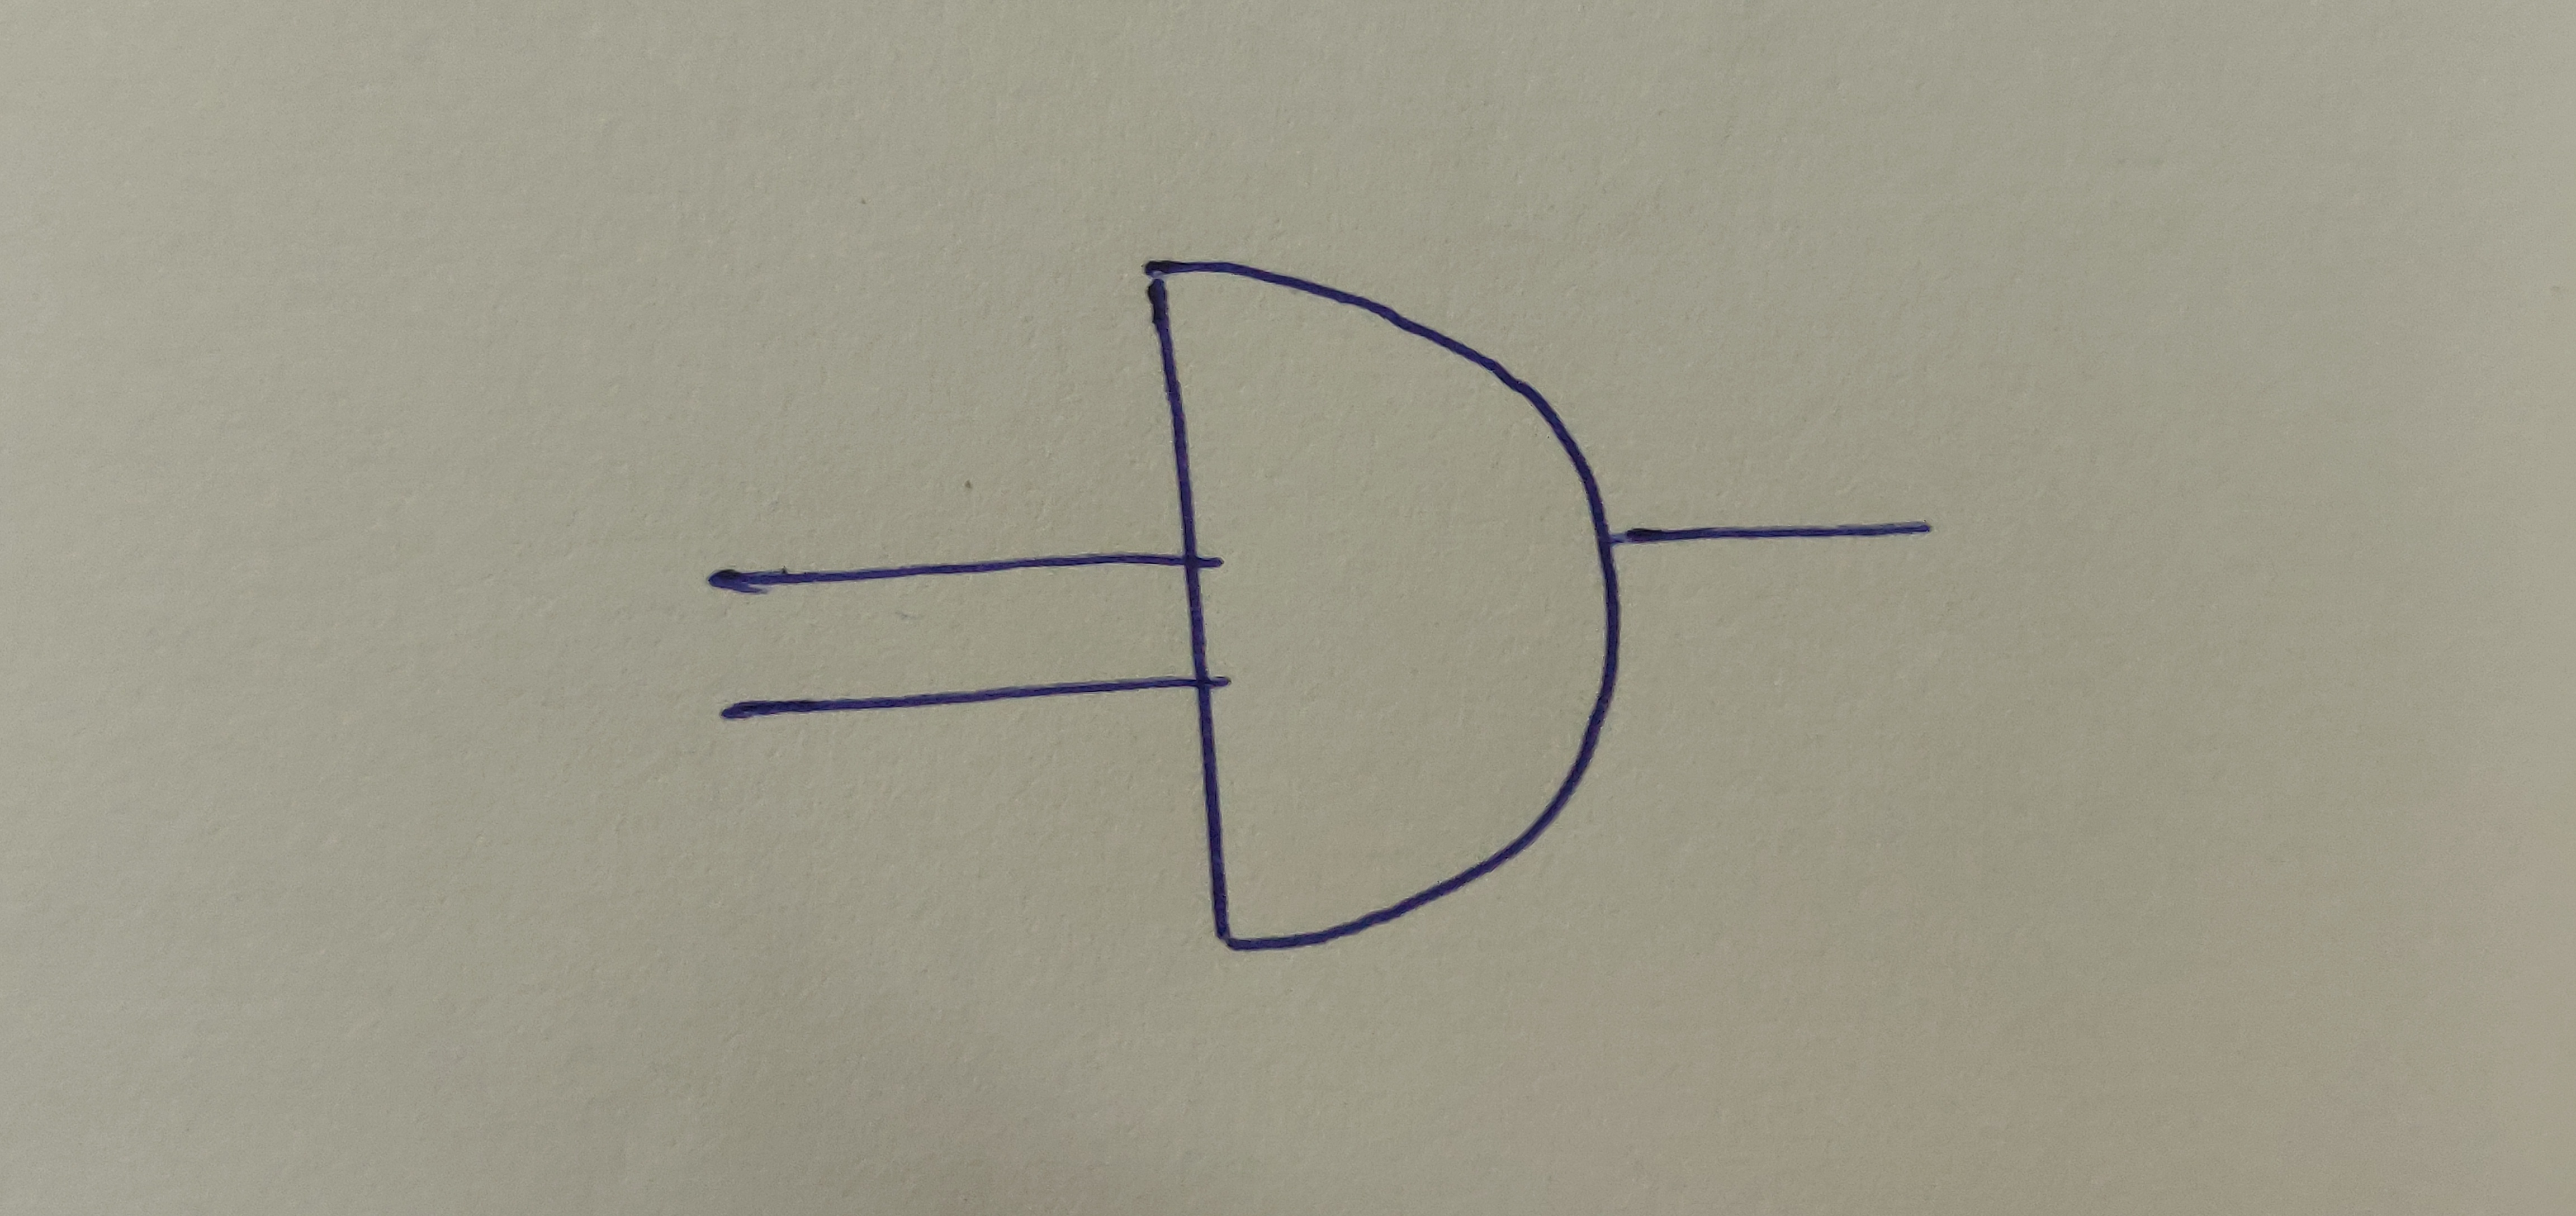and: (1134, 253, 1631, 955)
